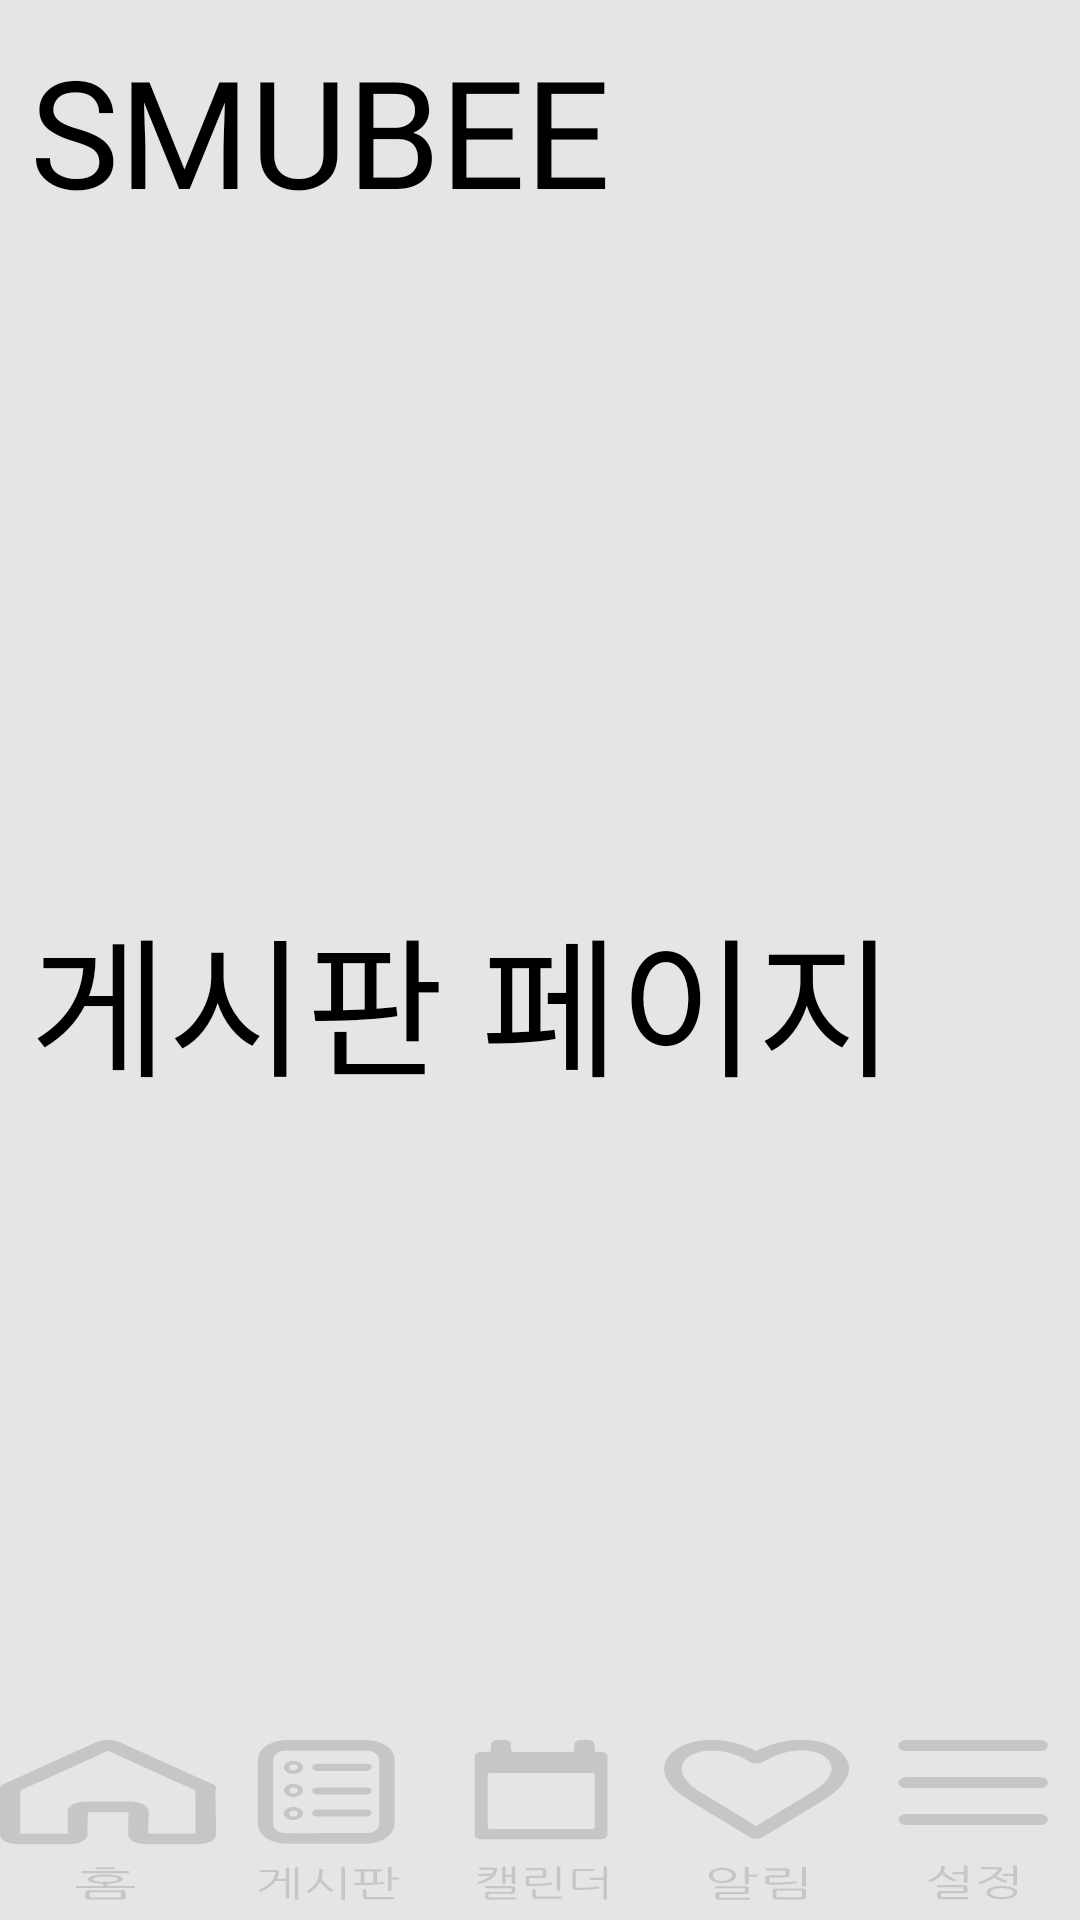

Where to tap for icons on this 1080×1920 app screen, as [x,y]:
planner: [541,1819]
